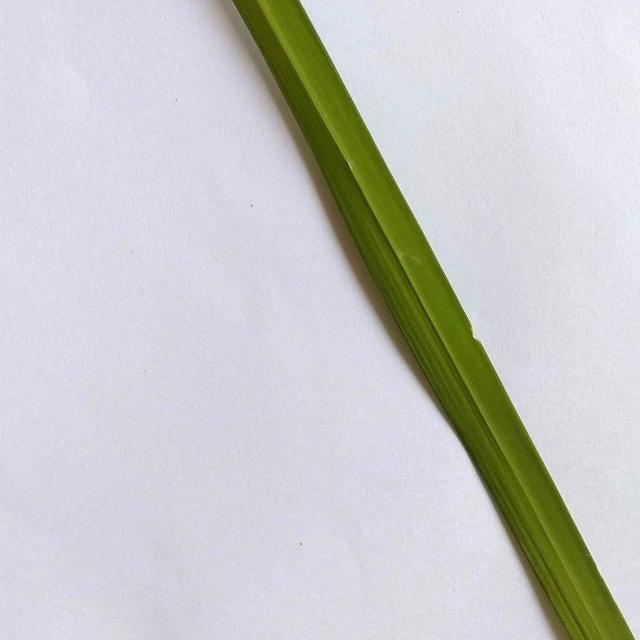healthy: (219, 2, 640, 640)
